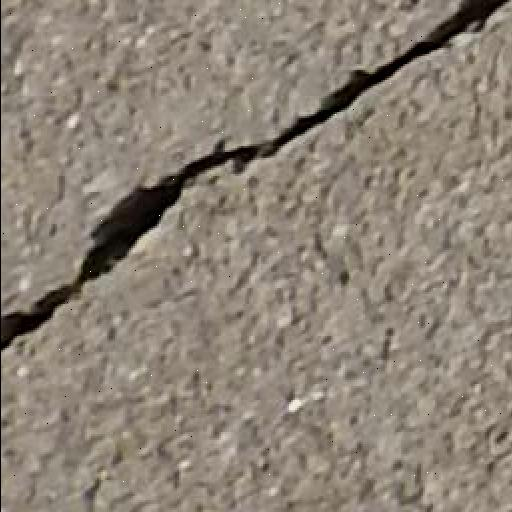spalling: (7, 9, 500, 370)
